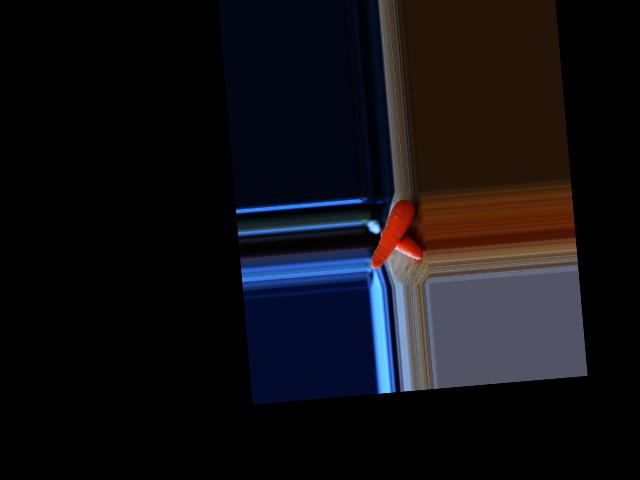carrot: (379, 223, 423, 260)
